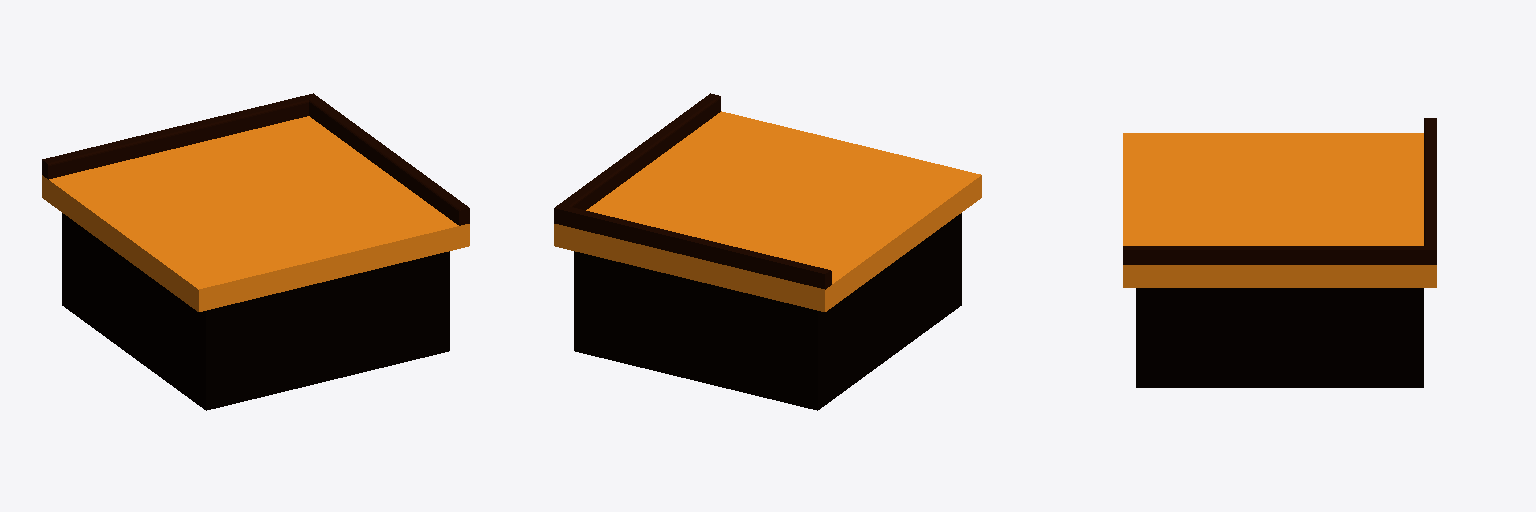
Rendered from mesaEs.obj.
3 renders of one model, left to right at view 1: azimuth 30°, elevation 25°; view 2: azimuth 150°, elevation 25°; view 3: azimuth 270°, elevation 25°, orthographic.
Visible parts, largest first — view 1: Cube.001; view 2: Cube.001; view 3: Cube.001.
Boxes of the visible parts, x1=… form: Cube.001: x1=42, y1=93, x2=469, y2=410; Cube.001: x1=554, y1=93, x2=981, y2=410; Cube.001: x1=1123, y1=118, x2=1436, y2=387.
Bounding box in the file's own units: 2 × 1.02 × 2.